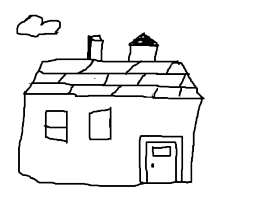chimney: (124, 29, 162, 68), (84, 29, 106, 65)
closed_window: (36, 111, 75, 142)
clouds: (7, 8, 65, 42)
door: (126, 130, 187, 187)
open_window: (83, 102, 113, 144)
roof: (12, 58, 213, 103)
wall: (16, 90, 205, 191)
